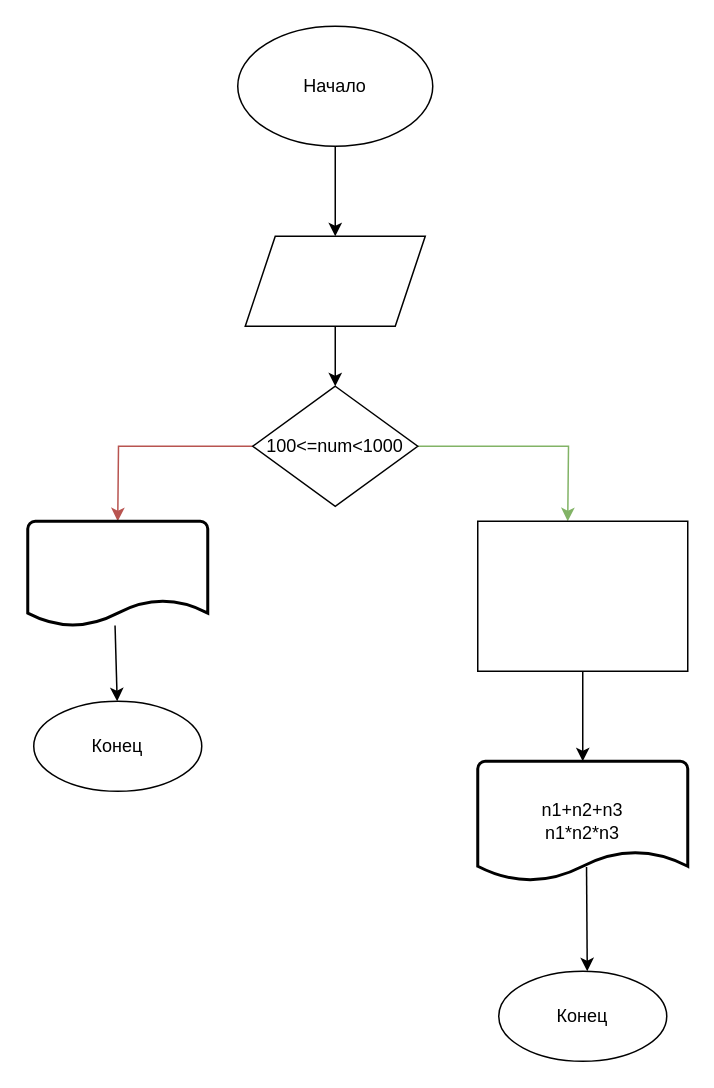
Image size: 714x1088. Some labels were removed from this diagram. The centre of each missing label's shape, as x and y in pixels:
"n1 = num//100 n2 = (num%100)//10 n3 = num%10" belongs at (582,595).
"num" belongs at (334,280).
"Нужно ввести трехзначное число" belongs at (117,573).
